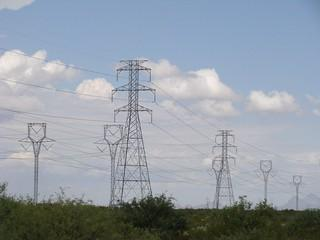power_tower: (111, 57, 160, 205), (16, 118, 60, 207), (208, 122, 240, 210)
